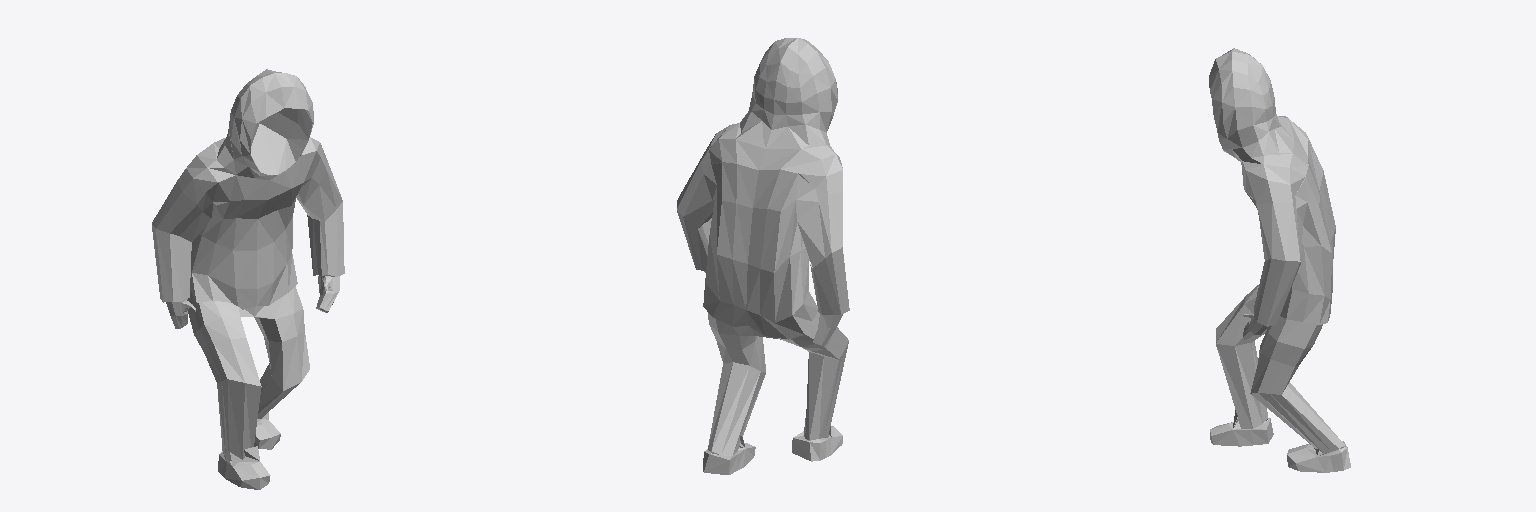
File: Shadowmanv_000026.obj
3 views of the same model, side by side, from view 1: azimuth 30°, elevation 25°; view 2: azimuth 150°, elevation 25°; view 3: azimuth 270°, elevation 25° (orthographic).
Visible parts, largest first — view 1: Cube.000; view 2: Cube.000; view 3: Cube.000.
Boxes of the visible parts, x1,y1,x2,y2 form: Cube.000: [152, 69, 344, 489]; Cube.000: [677, 38, 849, 474]; Cube.000: [1209, 48, 1350, 472].
Size of the model in its own units: 4.9 by 10.82 by 3.47.